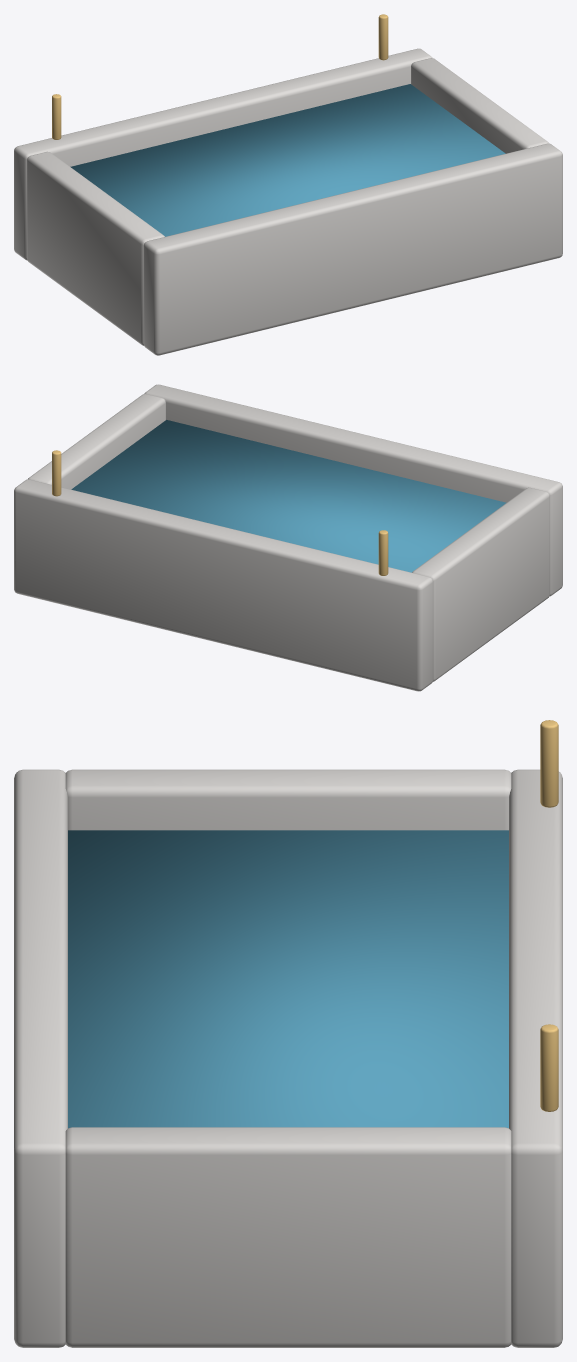
File: tub.fbx
The picture shows the model from 3 angles, top to bottom: view 1: azimuth 30°, elevation 25°; view 2: azimuth 150°, elevation 25°; view 3: azimuth 270°, elevation 25°; orthographic projection. The views are drawn at different scales.
Visible parts, largest first — view 1: rim, water, rim.002, rim.001, rim.003, tap.001, tap; view 2: rim.001, water, rim.002, rim, rim.003, tap, tap.001; view 3: water, rim.003, rim, rim.001, rim.002, tap.001, tap.
Boxes of the visible parts, bbox=[...] form: rim: bbox=[143, 143, 562, 355]; water: bbox=[70, 84, 505, 236]; rim.002: bbox=[27, 151, 164, 345]; rim.001: bbox=[14, 48, 432, 260]; rim.003: bbox=[411, 58, 549, 153]; tap.001: bbox=[378, 14, 388, 60]; tap: bbox=[52, 94, 61, 139]; rim.001: bbox=[14, 479, 433, 691]; water: bbox=[71, 420, 506, 572]; rim.002: bbox=[412, 487, 549, 681]; rim: bbox=[144, 384, 562, 596]; rim.003: bbox=[27, 394, 165, 489]; tap: bbox=[378, 530, 388, 575]; tap.001: bbox=[52, 450, 61, 496]; water: bbox=[68, 830, 508, 1128]; rim.003: bbox=[65, 1127, 511, 1347]; rim: bbox=[14, 769, 67, 1347]; rim.001: bbox=[509, 769, 562, 1347]; rim.002: bbox=[65, 769, 511, 830]; tap.001: bbox=[540, 1024, 558, 1111]; tap: bbox=[540, 720, 558, 807].
Size of what is drawn, in the model's own units: 200 by 70 by 122.
